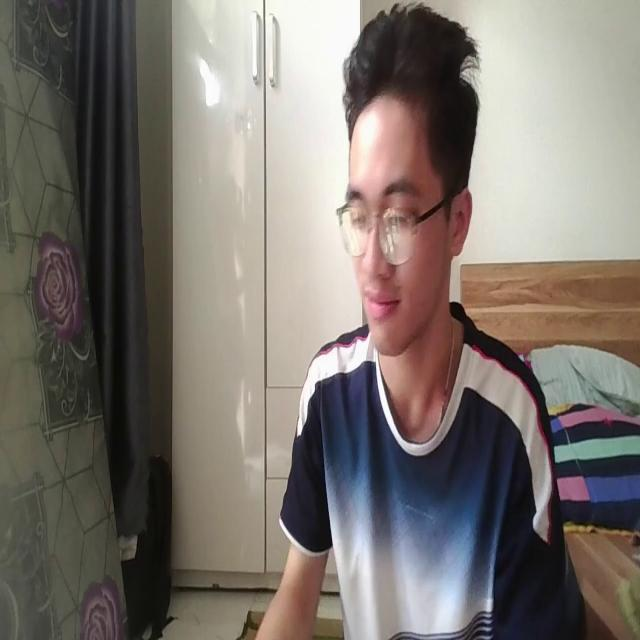student: (256, 0, 570, 640)
